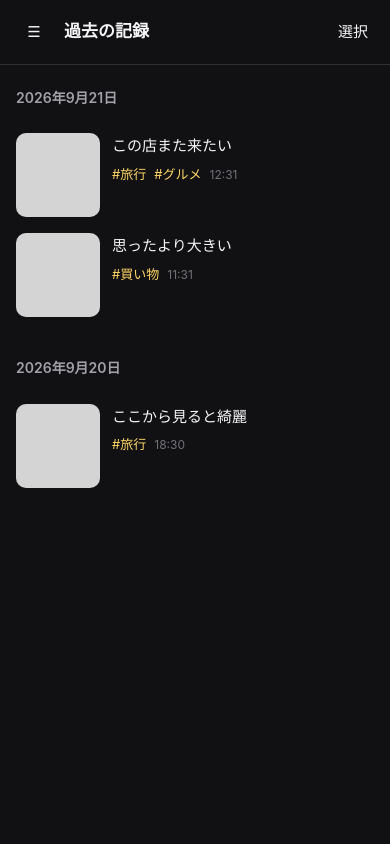
Test: 複数選択して削除 › 未選択では削除ボタンを押せない
The image size is (390, 844).
Expected: the text "この店また来たい" is shown, [112,136,232,155]
Click the button "選択": (353,32) [328,10,378,54]
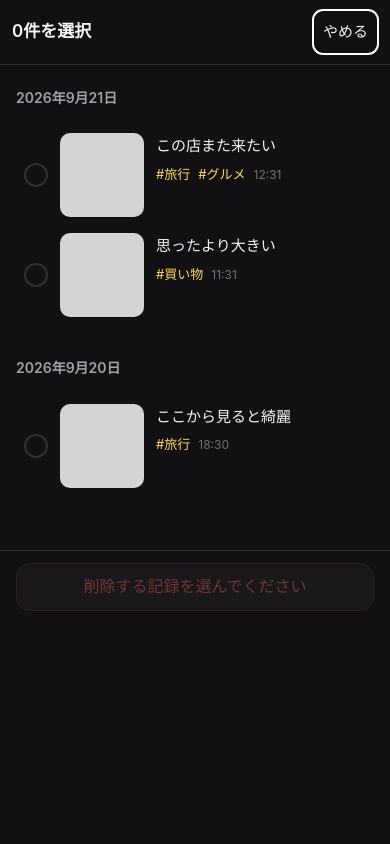
Result: the button "削除する記録を選んでください" is disabled at [16,563,374,611]
